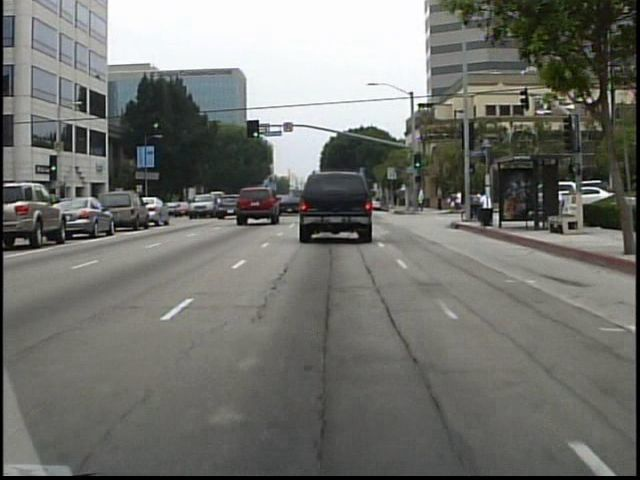person: (434, 181, 447, 214), (416, 184, 429, 216), (394, 188, 400, 209)
